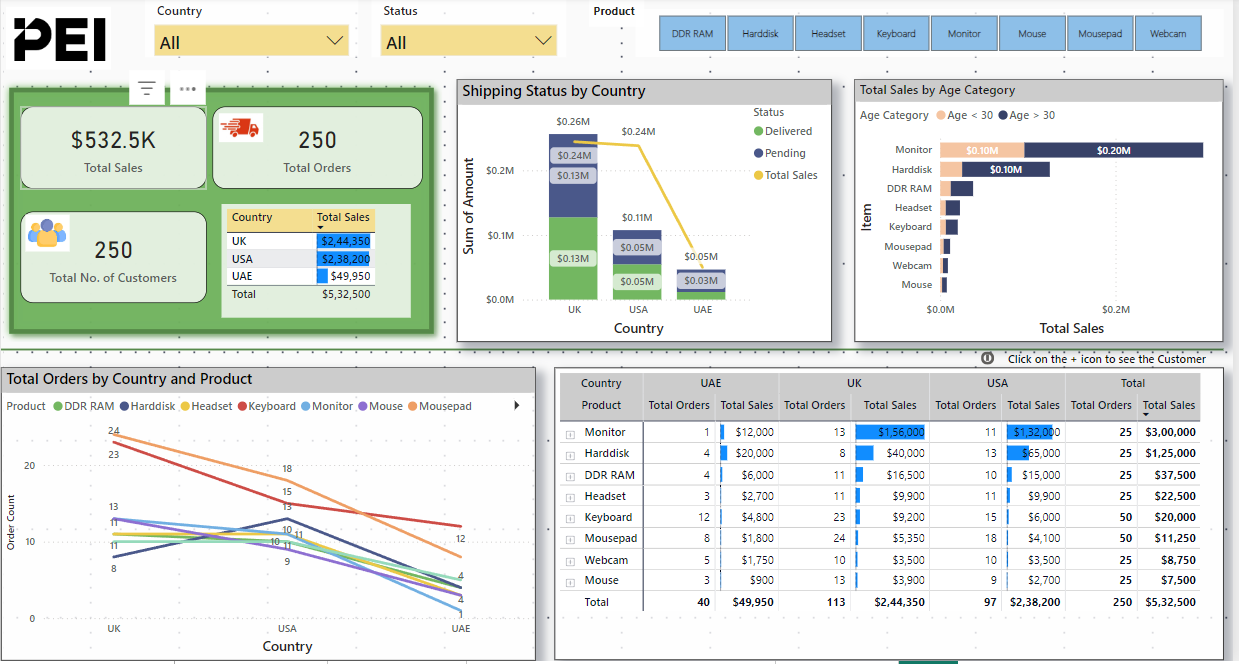

Layout of this report page (visuals, bound fields, positions):
{"tool":"powerbi","page":{"name":"Summary","canvas":[1336,720],"ordinal":1},"visuals":[{"type":"map","fields":{"Category":["Customers.Country"],"Size":["Measure.Total Sales"]},"box":[125,111.4,422,255.4],"z":0},{"type":"columnChart","title":"Amount by Country and Status","fields":{"Category":["Customers.Country"],"Series":["Shipping.Status"],"Y":["Measure.Total Sales"]},"box":[571.1,110.6,388.9,263.6],"z":1000},{"type":"shape","box":[99.6,374,1227.2,17.2],"z":2000},{"type":"pivotTable","title":"Table with Item and Customer Full Name","fields":{"Columns":["Customers.Country"],"Rows":["Order.Item","Customers.Customer Name"],"Values":["Measure.Total Orders","Measure.Total Sales"]},"box":[579.6,402.1,739.9,318.8],"z":3000},{"type":"slicer","fields":{"Values":["Customers.Country"]},"box":[0,77.9,112.3,161.2],"z":4000},{"type":"slicer","fields":{"Values":["Order.Item"]},"box":[0,232.8,112.3,487.2],"z":5000},{"type":"card","fields":{"Values":["Measure.Total Sales"]},"box":[143.2,0,222.3,89.3],"z":6000},{"type":"card","fields":{"Values":["Measure.Total Orders"]},"box":[365.5,0,229.1,89.3],"z":7000},{"type":"card","fields":{"Values":["Measure.Total No of Customers"]},"box":[594.5,0,259.4,89.3],"z":8000},{"type":"pieChart","fields":{"Category":["Order.Item"],"Y":["Measure.Total Orders"]},"box":[125,408.5,446.5,163.9],"z":9000},{"type":"barChart","title":"Total Sales by Age Category","fields":{"Category":["Order.Item"],"Series":["Customers.Age Category"],"Y":["Measure.Total Sales"]},"box":[971.8,110.5,355,263.5],"z":10000},{"type":"image","box":[0,0,124.6,89.3],"z":11000},{"type":"actionButton","box":[1058.7,380.4,251.8,21.7],"z":12000},{"type":"card","fields":{"Values":["Max(refresh.Last Refresh)"]},"box":[1170.1,0,165.7,77.9],"z":12001},{"type":"lineChart","fields":{"Y":["Measure.Total Orders"],"Series":["Order.Item"],"Category":["Customers.Country"]},"box":[125,579.6,446.5,140.4],"z":12002}]}

Visuals, with their boxes in screenshot pixels (x1, y1, x2, y2), scaled from the page's 1336x720 canvas onto the 1239x664 screenshot:
map - Customers.Country x Measure.Total Sales: crop(116, 103, 507, 338)
"Amount by Country and Status" columnChart: crop(530, 102, 890, 345)
shape: crop(92, 345, 1230, 361)
"Table with Item and Customer Full Name" pivotTable: crop(538, 371, 1224, 663)
slicer - Customers.Country: crop(0, 72, 104, 221)
slicer - Order.Item: crop(0, 215, 104, 663)
card - Measure.Total Sales: crop(133, 0, 339, 82)
card - Measure.Total Orders: crop(339, 0, 551, 82)
card - Measure.Total No of Customers: crop(551, 0, 792, 82)
pieChart - Order.Item x Measure.Total Orders: crop(116, 377, 530, 528)
"Total Sales by Age Category" barChart: crop(901, 102, 1230, 345)
image: crop(0, 0, 116, 82)
actionButton: crop(982, 351, 1215, 371)
card - Max(refresh.Last Refresh): crop(1085, 0, 1238, 72)
lineChart - Measure.Total Orders x Order.Item: crop(116, 535, 530, 663)
